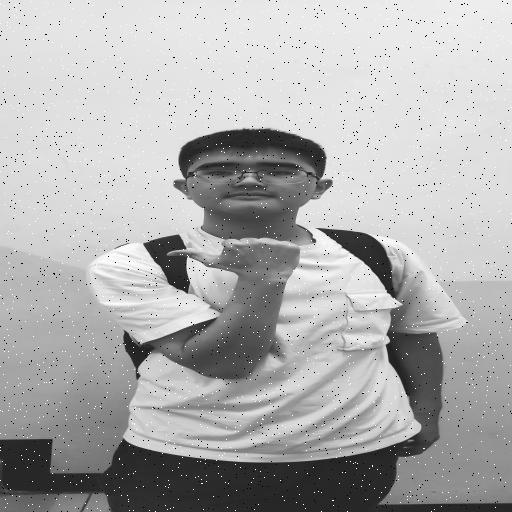back: (157, 230, 325, 283)
